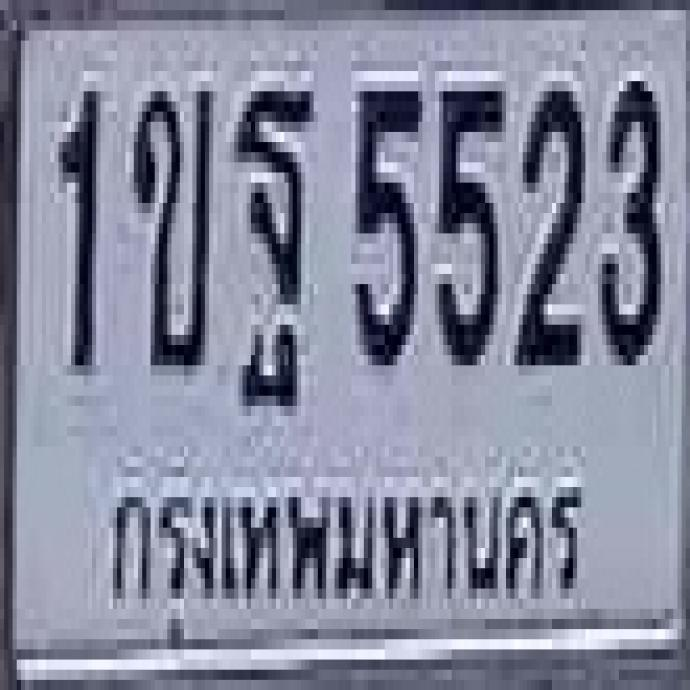1: (56, 81, 94, 364)
2: (513, 77, 579, 357)
3: (596, 71, 658, 355)
5: (433, 74, 499, 356), (350, 76, 416, 356)
A02: (129, 78, 208, 365)
A16: (232, 79, 311, 416)
BKK: (99, 452, 592, 636)
